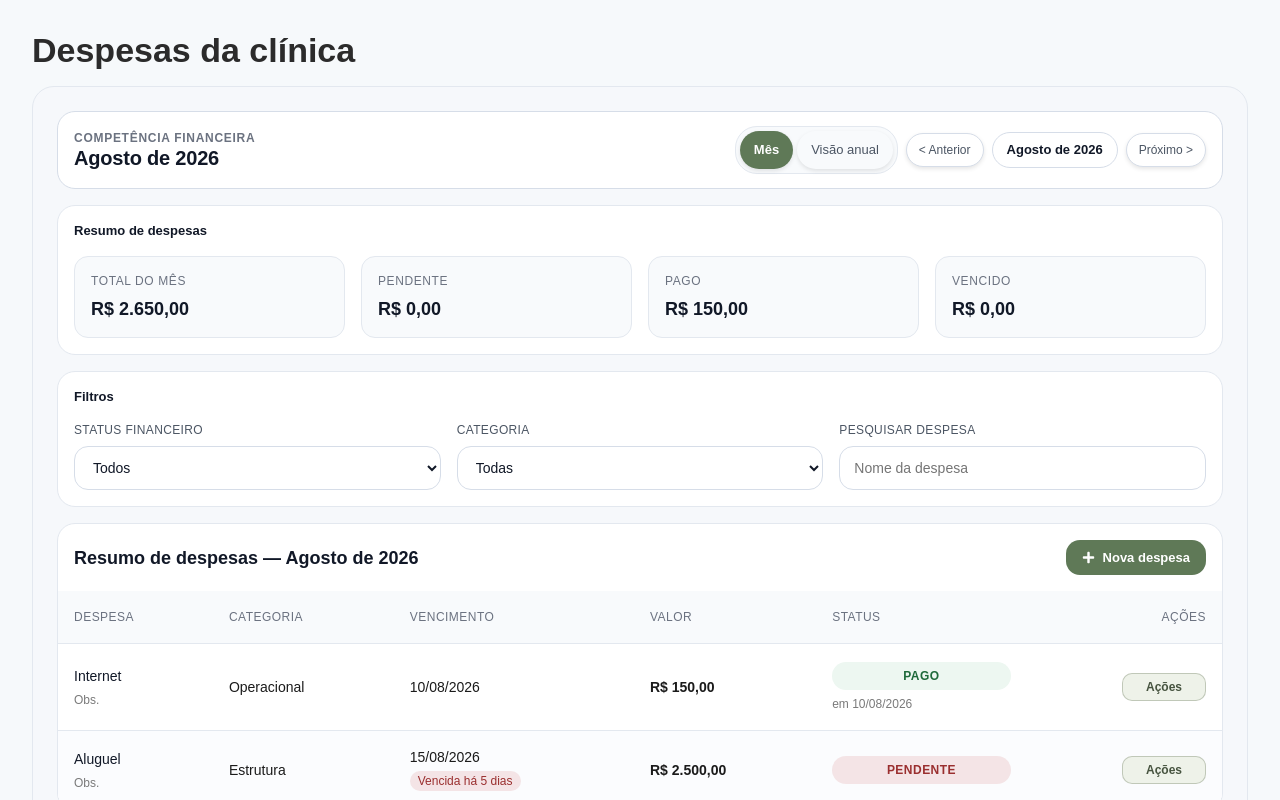
Scenario: Financeiro - caracterização de despesas e configurações publicadas › não oferece exclusão direta para despesa paga
Click the heading "Ações" in the row of "Internet": (1164, 687) [1122,673,1206,701]
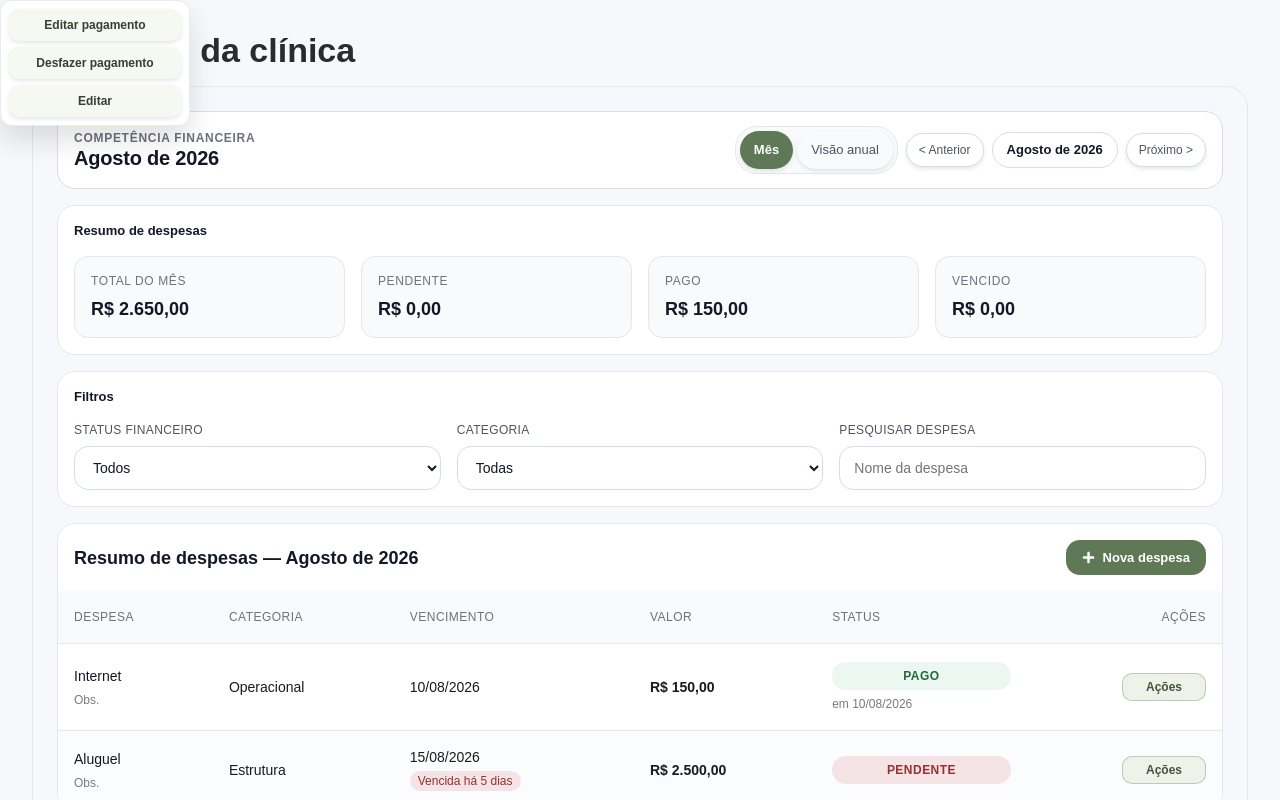
Expected: the button "Desfazer pagamento" is shown, [9,47,181,79]
